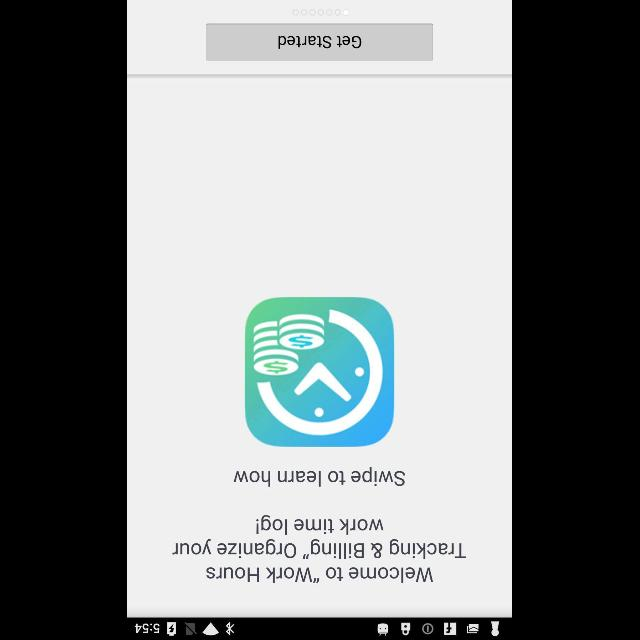image: (245, 296, 395, 448)
pageindicator: (293, 8, 351, 15)
text: (172, 515, 468, 583), (234, 467, 406, 488)
textbutton: (208, 24, 434, 61)
uppertaskbar: (128, 617, 512, 639)
